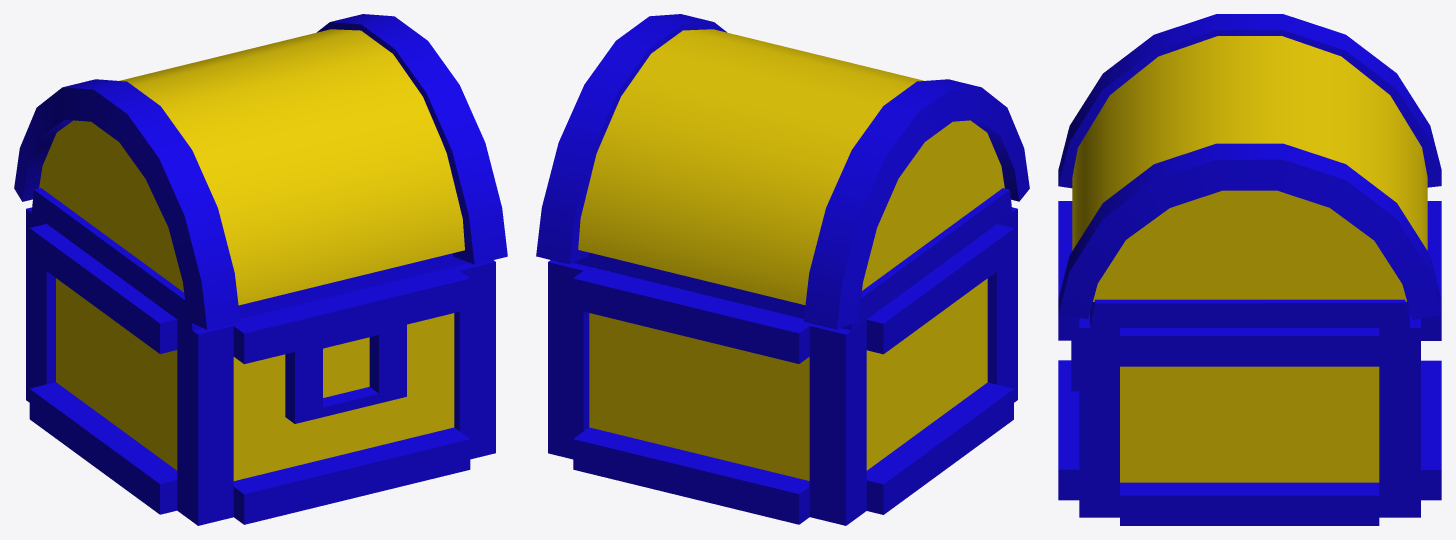
The model's file is Chest_Box.fbx.
3 views of the same model, side by side, from view 1: azimuth 30°, elevation 25°; view 2: azimuth 150°, elevation 25°; view 3: azimuth 270°, elevation 25° (orthographic).
Visible parts, largest first — view 1: Chest_Box_Wood_01, Chest_Box_Iron_03, Chest_Box_Wood_02, Chest_Box_Iron_01, Chest_Box_Iron_04, Chest_Box_Iron_02, Chest_Box_Iron_05; view 2: Chest_Box_Wood_01, Chest_Box_Wood_02, Chest_Box_Iron_03, Chest_Box_Iron_01, Chest_Box_Iron_04, Chest_Box_Iron_02; view 3: Chest_Box_Wood_01, Chest_Box_Iron_01, Chest_Box_Iron_03, Chest_Box_Wood_02, Chest_Box_Iron_04, Chest_Box_Iron_02, Chest_Box_Iron_05.
Boxes of the visible parts, x1,y1,x2,y2 form: Chest_Box_Wood_01: (39,29,464,305); Chest_Box_Iron_03: (29,224,470,524); Chest_Box_Wood_02: (56,278,454,480); Chest_Box_Iron_01: (14,14,507,329); Chest_Box_Iron_04: (26,207,495,525); Chest_Box_Iron_02: (31,188,469,330); Chest_Box_Iron_05: (285,324,406,423); Chest_Box_Wood_01: (578,29,1004,304); Chest_Box_Wood_02: (589,278,987,480); Chest_Box_Iron_03: (573,224,1013,524); Chest_Box_Iron_01: (536,14,1029,329); Chest_Box_Iron_04: (548,207,1017,525); Chest_Box_Iron_02: (573,188,1012,330); Chest_Box_Wood_01: (1072,36,1427,301); Chest_Box_Iron_01: (1058,14,1441,319); Chest_Box_Iron_03: (1058,201,1441,525); Chest_Box_Wood_02: (1120,366,1379,482); Chest_Box_Iron_04: (1079,312,1420,517); Chest_Box_Iron_02: (1090,299,1409,327); Chest_Box_Iron_05: (1071,340,1079,391).
Size of the model in its own units: 1.19 by 1.24 by 1.2.
